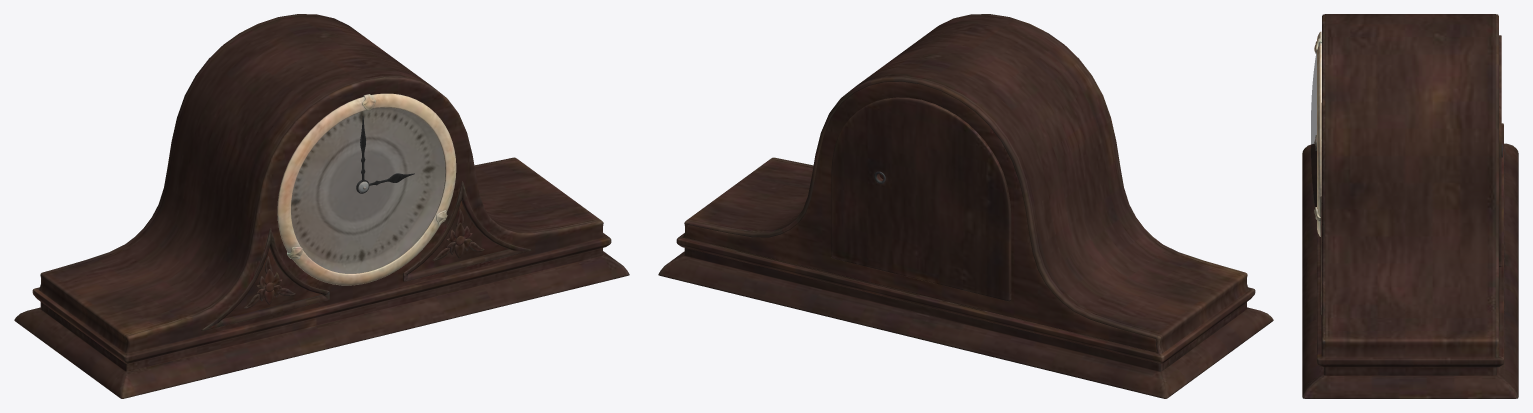
Rendered from mantel_clock_01.gltf.
3 renders of one model, left to right at view 1: azimuth 30°, elevation 25°; view 2: azimuth 150°, elevation 25°; view 3: azimuth 270°, elevation 25°, orthographic.
Parts seen in each view (by area): view 1: mantel_clock_01, mantel_clock_01_glass; view 2: mantel_clock_01; view 3: mantel_clock_01, mantel_clock_01_glass.
Part boxes in pixels (x1=…): mantel_clock_01: x1=14, y1=14, x2=629, y2=398; mantel_clock_01_glass: x1=291, y1=107, x2=445, y2=273; mantel_clock_01: x1=658, y1=14, x2=1273, y2=398; mantel_clock_01: x1=1302, y1=14, x2=1518, y2=398; mantel_clock_01_glass: x1=1311, y1=53, x2=1316, y2=207.
Bounding box in the file's own units: 0.3423 × 0.1605 × 0.1262.
2 materials, 2 textured.
